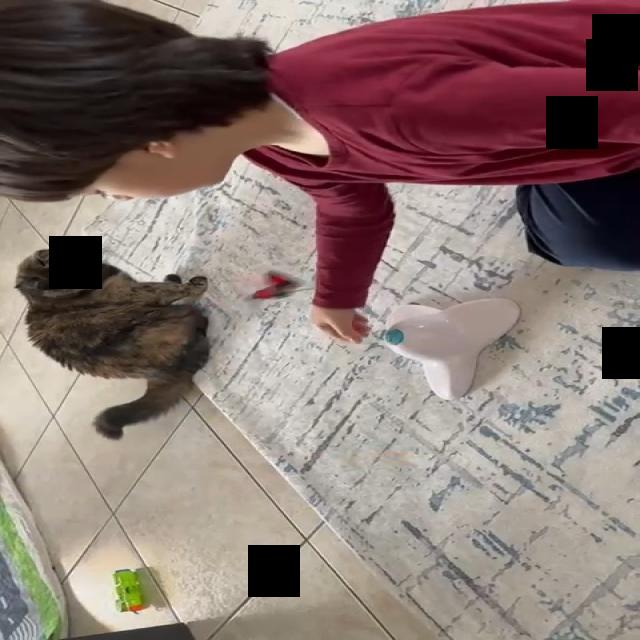authorized: (12, 247, 211, 440)
